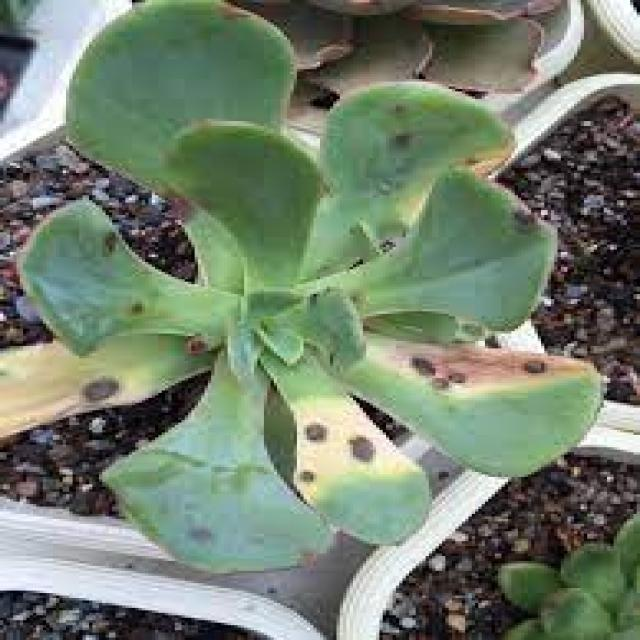-: (407, 352, 471, 390), (72, 379, 126, 402), (352, 438, 379, 469), (103, 233, 123, 267), (303, 421, 326, 446), (519, 362, 549, 377)
